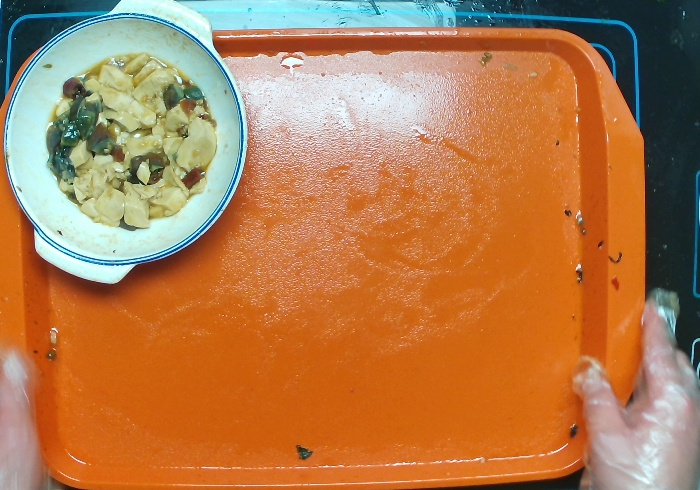HZYJPL-Lan_Bian_Dai_Er_Wan: (1, 1, 251, 288)
